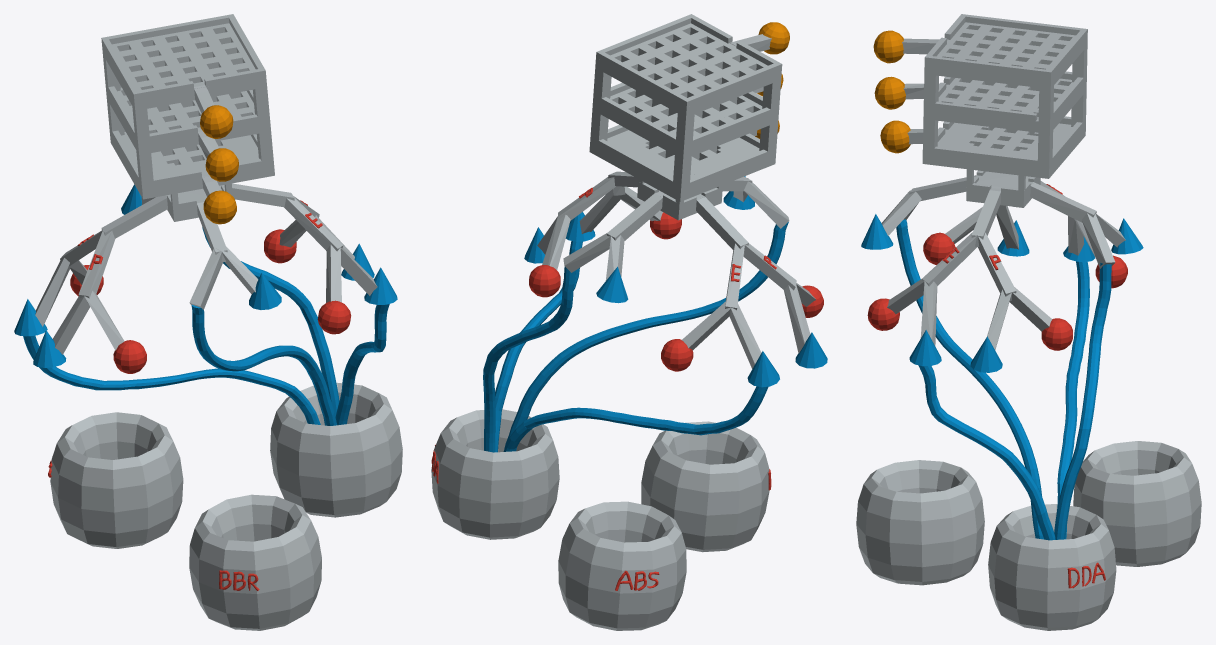
File: WireStack.glb
3 views of the same model, side by side, from view 1: azimuth 30°, elevation 25°; view 2: azimuth 150°, elevation 25°; view 3: azimuth 270°, elevation 25° (orthographic). The views are drawn at different scales.
Parts seen in each view (by area): view 1: node_MeshObject-808237056-PolyPaper16, node_MeshObject335921152-PolyPaper15; view 2: node_MeshObject-808237056-PolyPaper16, node_MeshObject335921152-PolyPaper15; view 3: node_MeshObject-808237056-PolyPaper16, node_MeshObject335921152-PolyPaper15.
Part boxes in pixels (x1,y1,x2,y2): node_MeshObject-808237056-PolyPaper16: (14, 23, 402, 630); node_MeshObject335921152-PolyPaper15: (23, 14, 397, 425); node_MeshObject-808237056-PolyPaper16: (431, 22, 827, 630); node_MeshObject335921152-PolyPaper15: (483, 14, 788, 452); node_MeshObject-808237056-PolyPaper16: (856, 22, 1201, 630); node_MeshObject335921152-PolyPaper15: (867, 14, 1127, 540).
Bounding box in the file's own units: 1.41 × 1.92 × 1.15.
